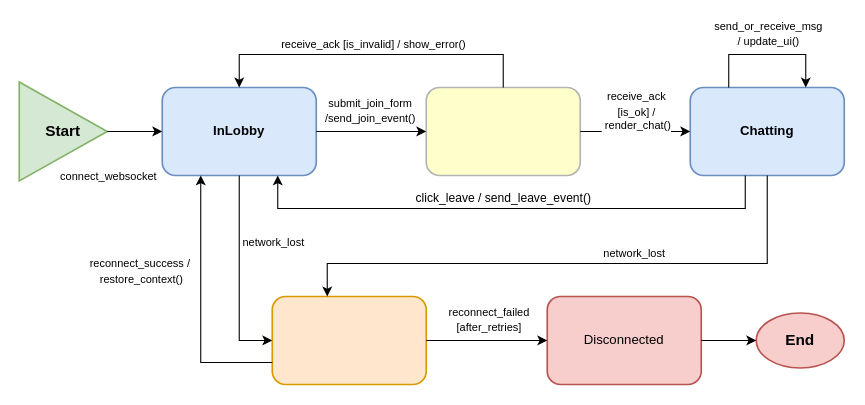
This 865x405 diagram has some shape labels left out. The centre of each missing label's shape, as x and y in pixels:
"Joining" belongs at pixel 503 131.
"Reconnecting" belongs at pixel 349 340.
